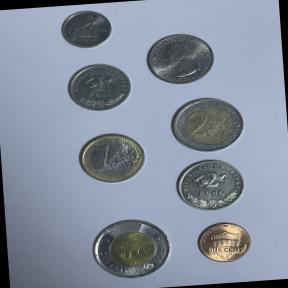coin: (84, 212, 176, 282), (163, 91, 250, 158), (138, 28, 220, 90), (171, 154, 248, 216), (74, 129, 148, 188), (192, 217, 256, 268), (56, 7, 115, 53)
